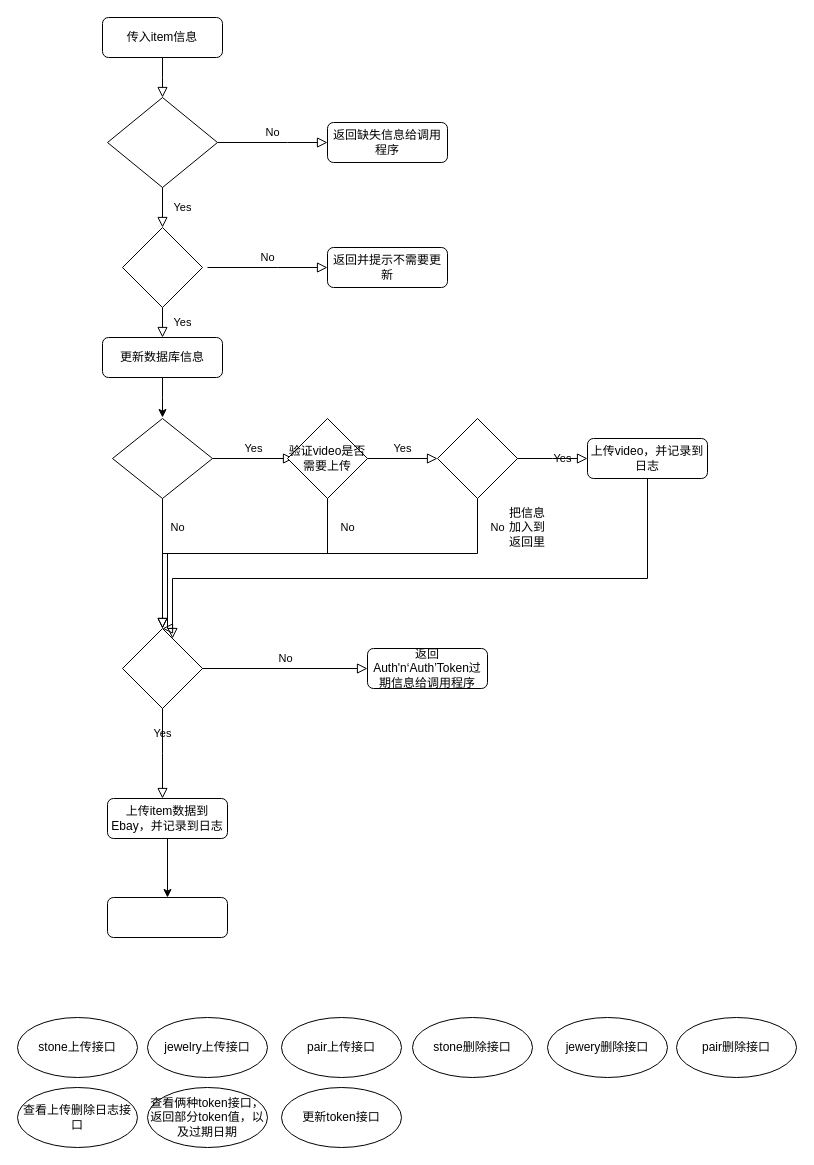
The diagram is 814 pixels wide and 1165 high, and some of its shapes have lost their labels. The box of each missing label's shape, as (x1, y1, x2, y2) in pixels:
Auth'n'Auth Token是否有效: (122, 628, 202, 708)
Refresh Token是否有效: (436, 418, 518, 498)
是否包含video链接: (112, 418, 212, 498)
查看数据库判断是否需要更新到ebay: (122, 226, 202, 308)
查看是否包含所有必填信息: (106, 96, 218, 188)
返回: (106, 896, 228, 938)
